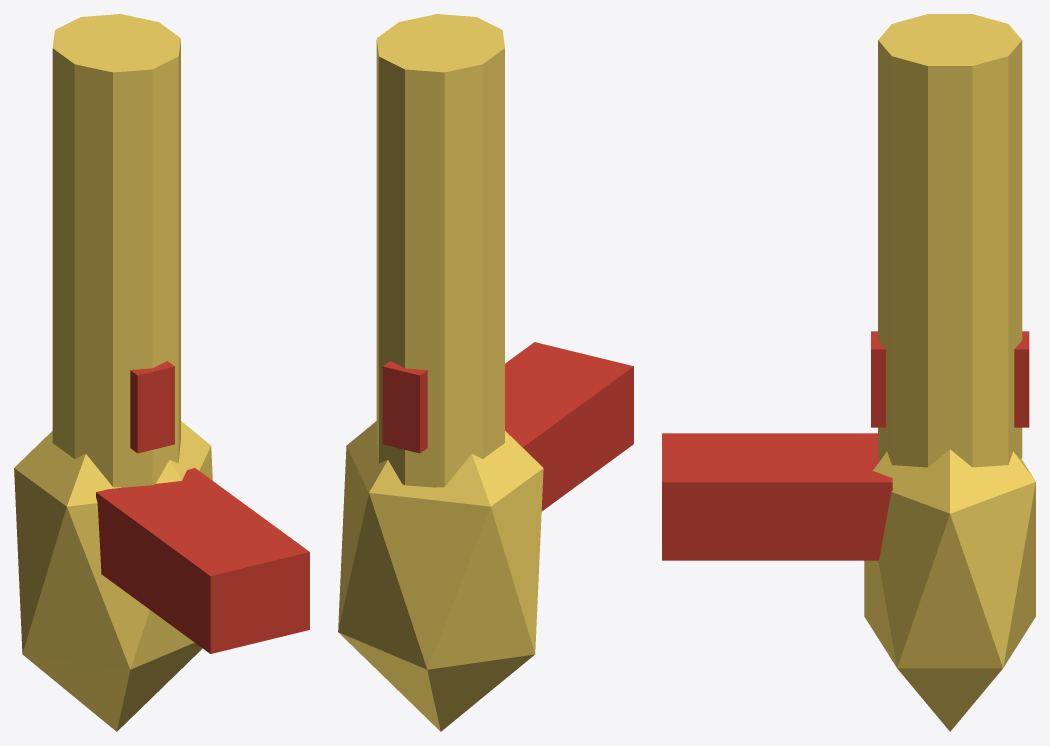
File: limb_rubber_chicken_arm.glb
The picture shows the model from 3 angles, left to right: view 1: azimuth 30°, elevation 25°; view 2: azimuth 150°, elevation 25°; view 3: azimuth 270°, elevation 25°; orthographic projection.
Visible parts, largest first — view 1: PART_neck, PART_body, PART_beak, PART_comb; view 2: PART_neck, PART_body, PART_beak, PART_comb; view 3: PART_neck, PART_body, PART_beak, PART_comb.
Boxes of the visible parts, bbox=[...] form: PART_neck: bbox=[52, 14, 180, 487]; PART_body: bbox=[14, 421, 212, 731]; PART_beak: bbox=[96, 468, 309, 653]; PART_comb: bbox=[130, 361, 174, 453]; PART_neck: bbox=[376, 14, 504, 487]; PART_body: bbox=[338, 421, 543, 731]; PART_beak: bbox=[505, 342, 633, 511]; PART_comb: bbox=[382, 361, 427, 453]; PART_neck: bbox=[878, 14, 1022, 467]; PART_body: bbox=[864, 449, 1035, 731]; PART_beak: bbox=[662, 433, 892, 560]; PART_comb: bbox=[871, 331, 1029, 427].
Size of the model in its own units: 0.1521 by 0.53 by 0.2595.
